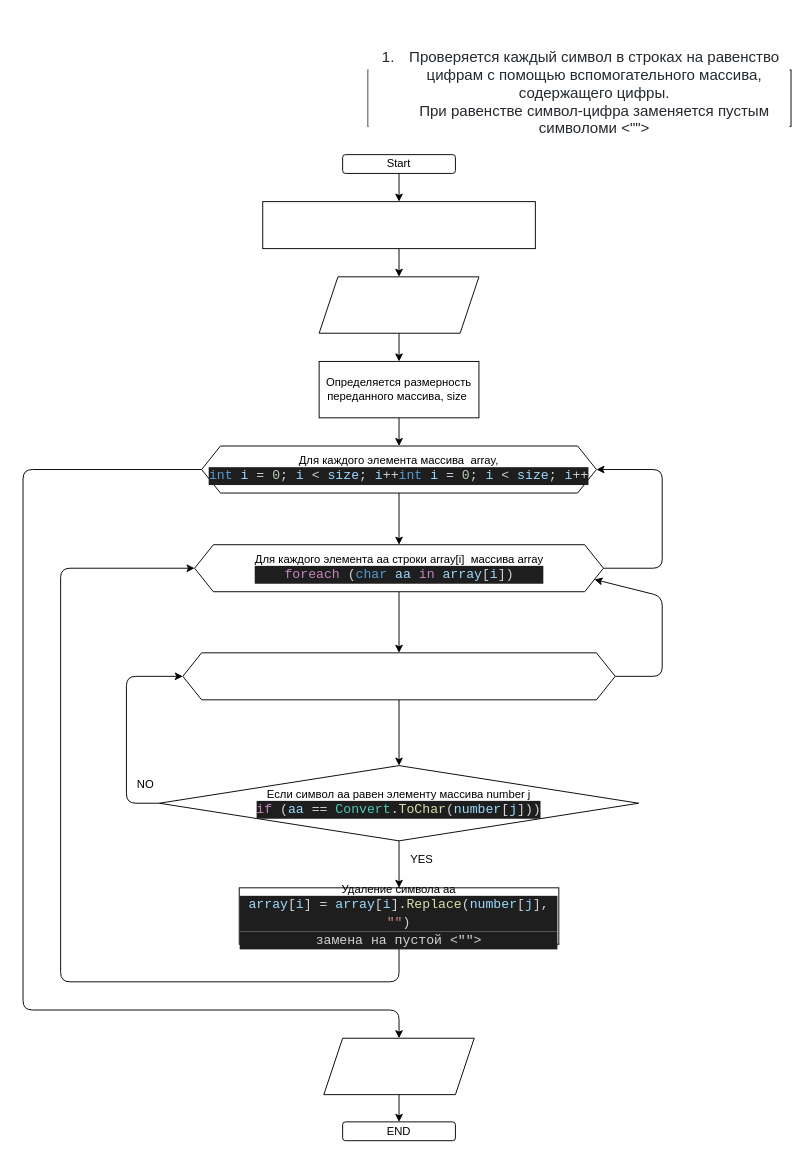
Some shapes in this 807 by 1157 pixel diagram are drawn without their labels. Each missing label, with the centre of its shape:
"Возврат массива array" belongs at point 398,1066.
"Для каждого элемента number[i] массива number for ( int j = 0 ; j <= 9 ; j ++)" belongs at point 398,676.
"Передается на вход строковый массив , содержащий цифры, array" belongs at point 398,304.
"Создается вспомогательный массив number, состоящий из цифр 0,1,......,9" belongs at point 398,225.
